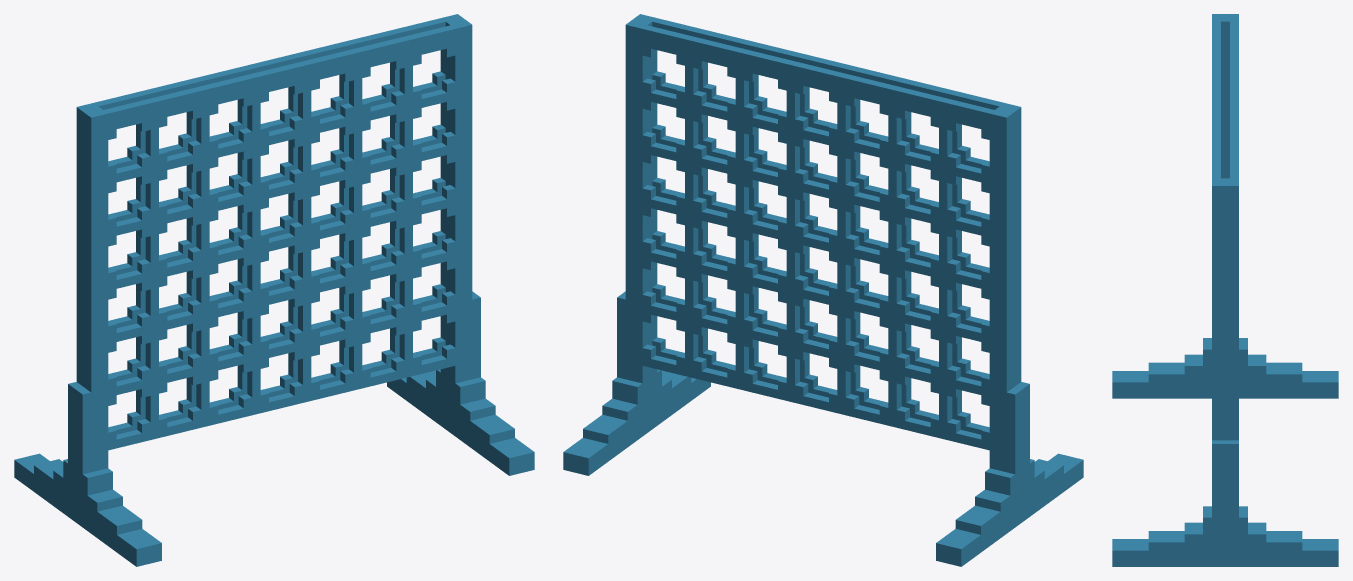
File: connect-board.glb
The picture shows the model from 3 angles, left to right: view 1: azimuth 30°, elevation 25°; view 2: azimuth 150°, elevation 25°; view 3: azimuth 270°, elevation 25°; orthographic projection. The views are drawn at different scales.
Parts seen in each view (by area): view 1: Node; view 2: Node; view 3: Node.
Part boxes in pixels (left/top/right/bottom): Node: left=14, top=14, right=534, bottom=566; Node: left=563, top=14, right=1083, bottom=566; Node: left=1112, top=14, right=1338, bottom=566.
Size of the model in its own units: 4.7 by 4.6 by 2.5.
Materials: 1 (1 with a texture image).
